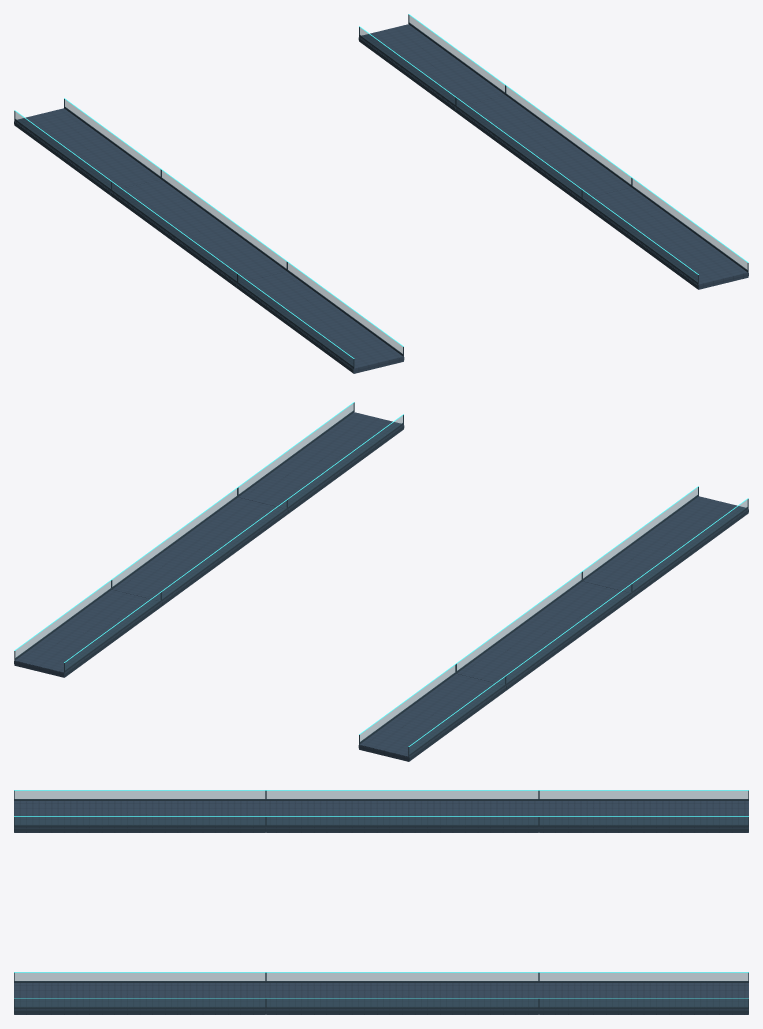
The model's file is v02-detailed-00-04.glb.
3 views of the same model, one above another, from view 1: azimuth 30°, elevation 25°; view 2: azimuth 150°, elevation 25°; view 3: azimuth 270°, elevation 25° (orthographic). The views are drawn at different scales.
Parts seen in each view (by area): view 1: v02-detailed-00-04; view 2: v02-detailed-00-04; view 3: v02-detailed-00-04.
Boxes of the visible parts, bbox=[...] form: v02-detailed-00-04: bbox=[14, 14, 748, 373]; v02-detailed-00-04: bbox=[14, 402, 748, 761]; v02-detailed-00-04: bbox=[14, 790, 748, 1014].
Bounding box in the file's own units: 47.1 × 1.77 × 70.
5 materials, 1 textured.
